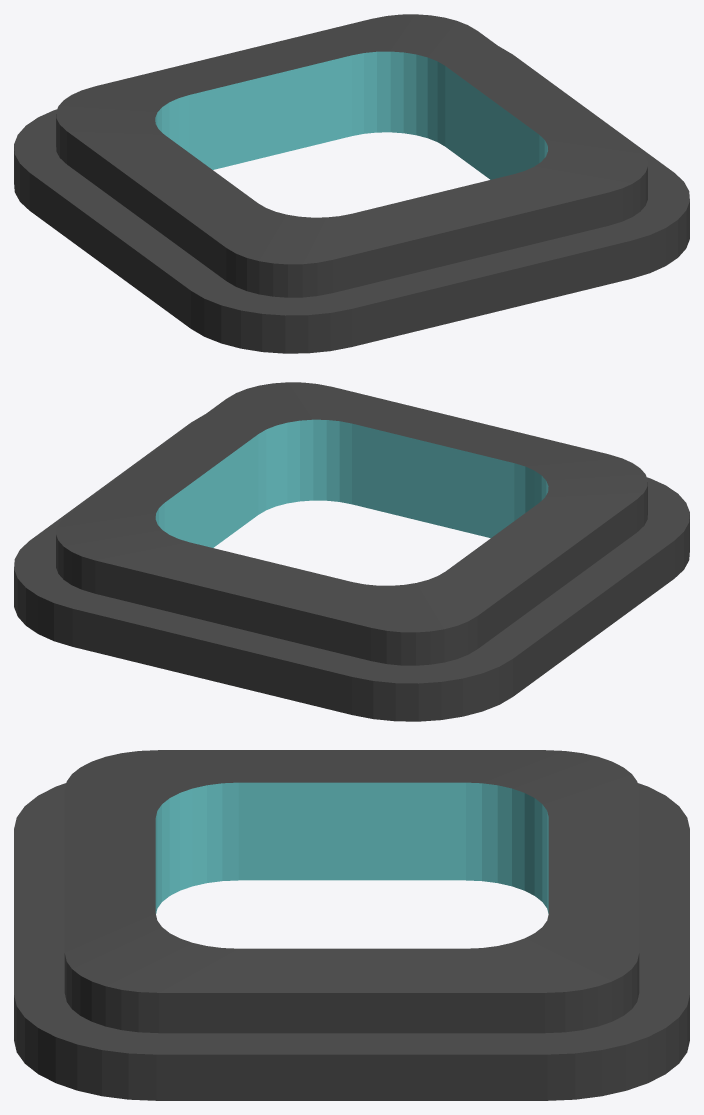
Rendered from alttabla 1.fbx.
The picture shows the model from 3 angles, top to bottom: view 1: azimuth 30°, elevation 25°; view 2: azimuth 150°, elevation 25°; view 3: azimuth 270°, elevation 25°; orthographic projection. The views are drawn at different scales.
Parts seen in each view (by area): view 1: alt tabla; view 2: alt tabla; view 3: alt tabla.
Part boxes in pixels (box(x1,y1,x2,y2)): alt tabla: box(14, 14, 689, 353); alt tabla: box(14, 382, 689, 721); alt tabla: box(14, 750, 689, 1100).
Bounding box in the file's own units: 2204 × 352 × 2204.
